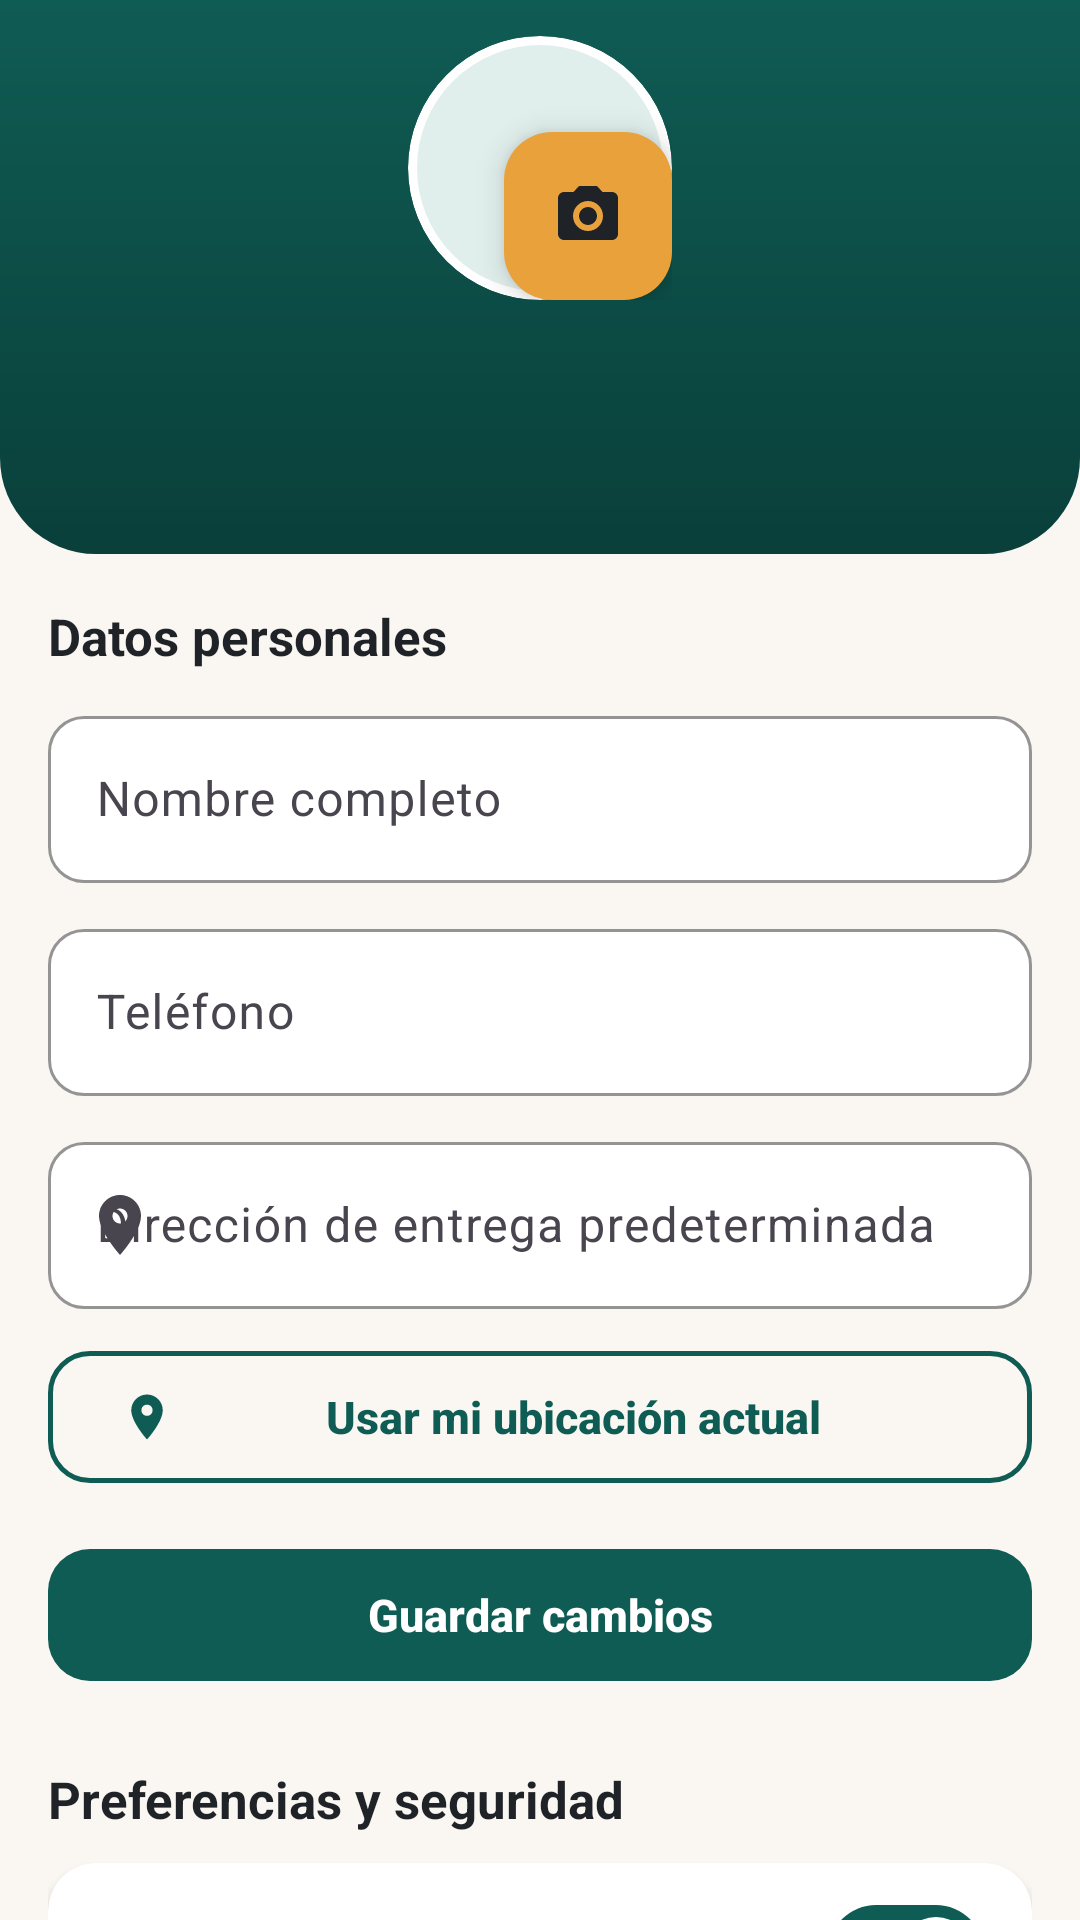

Point at icon controls on the screen. Image size 1080×1920, points as (x,y).
Tomar foto: (588,216)
